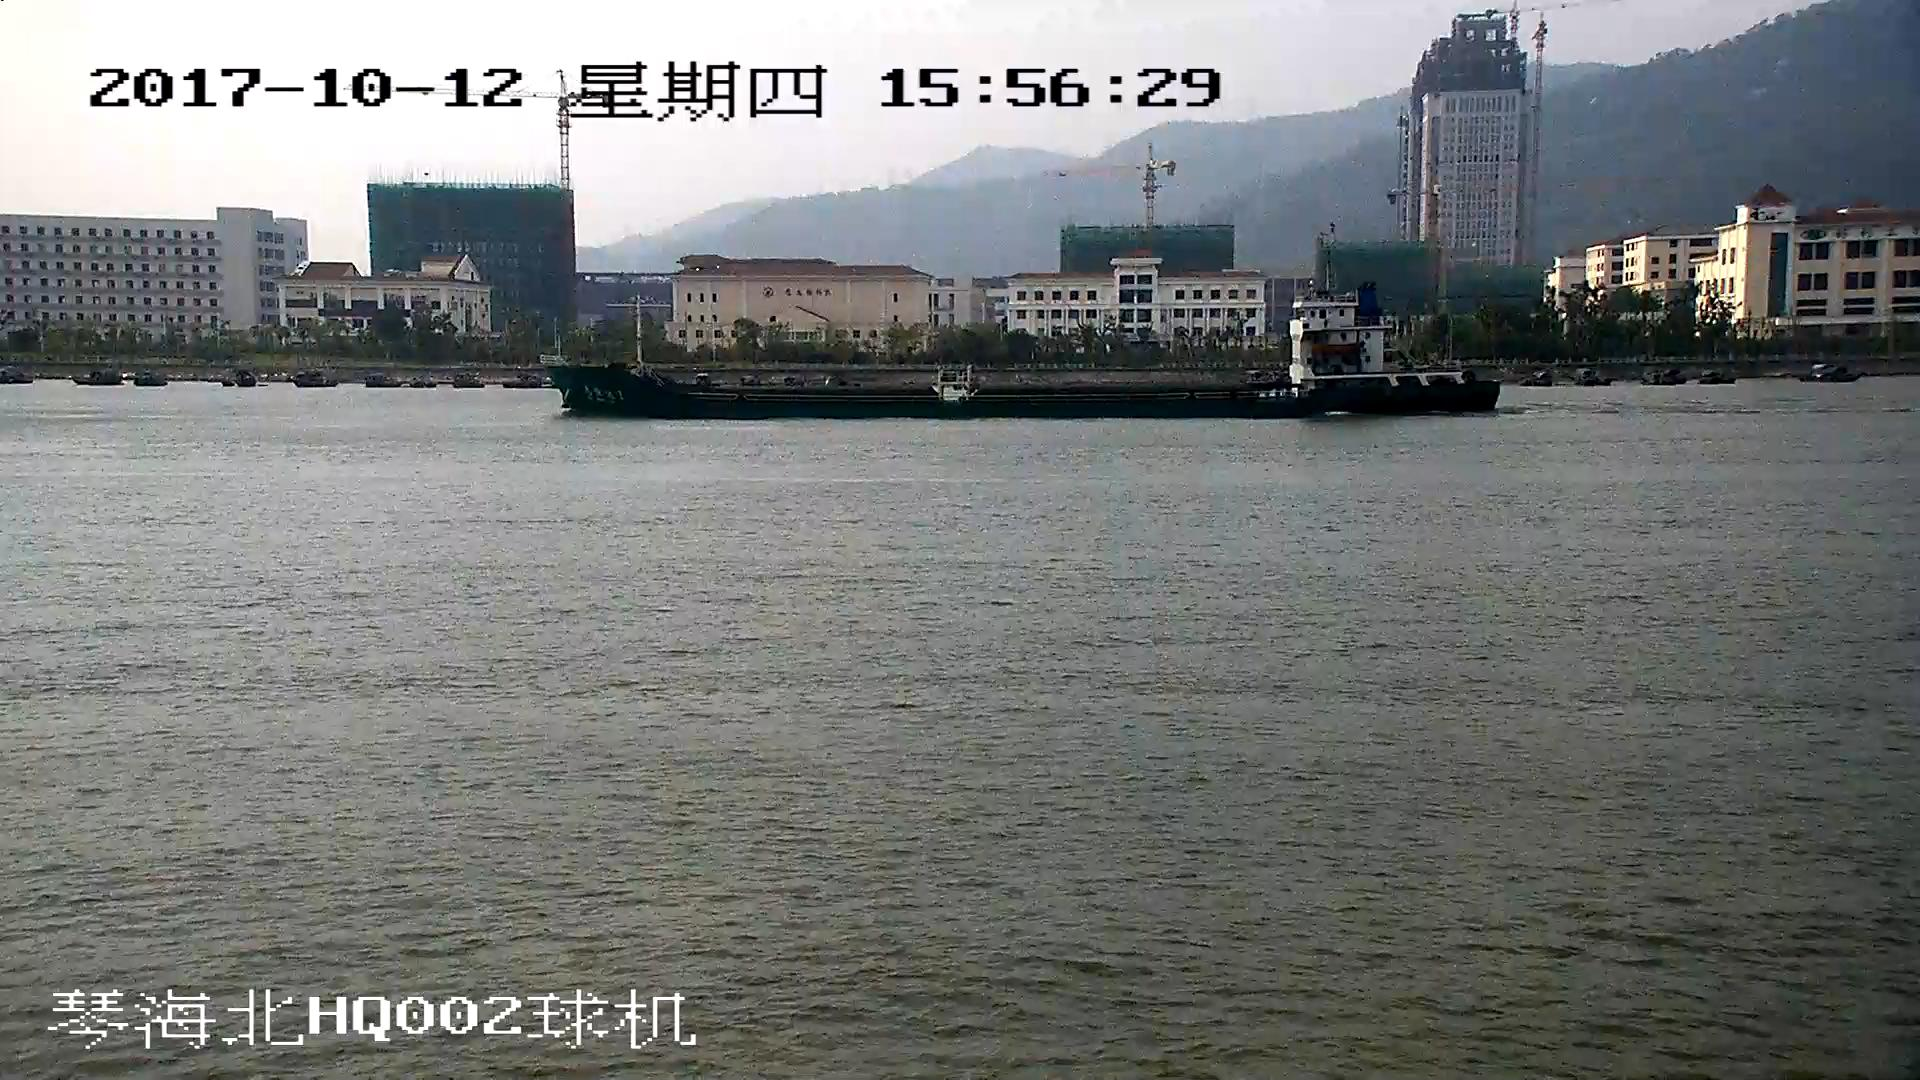general cargo ship: (543, 289, 1501, 415)
